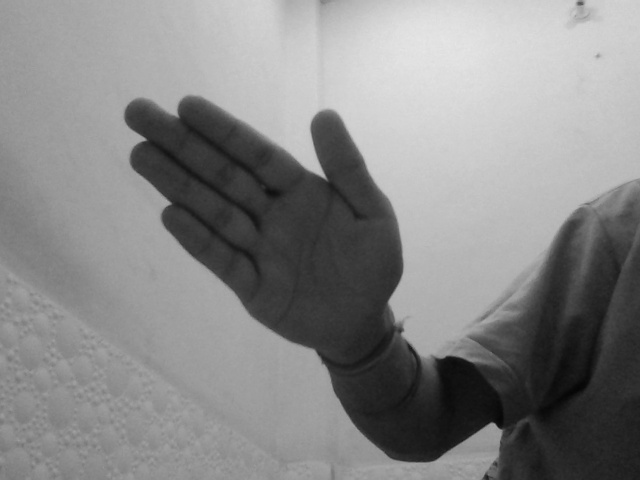Hello: (118, 90, 407, 350)
